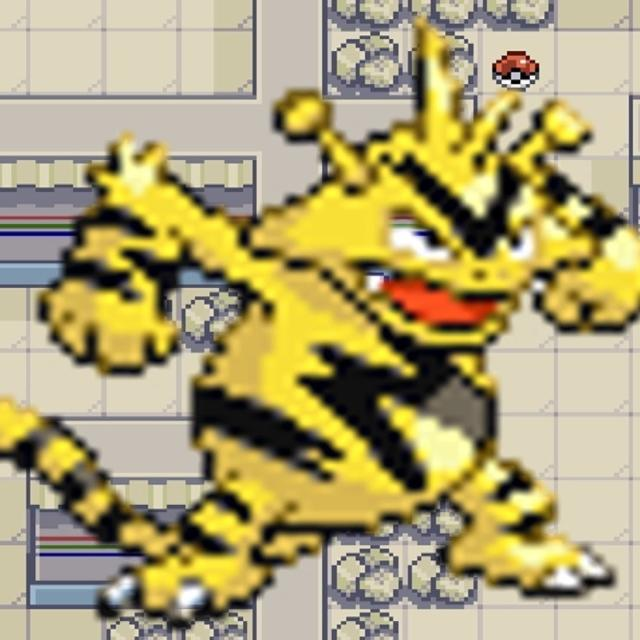Electabuzz: (0, 78, 640, 624)
